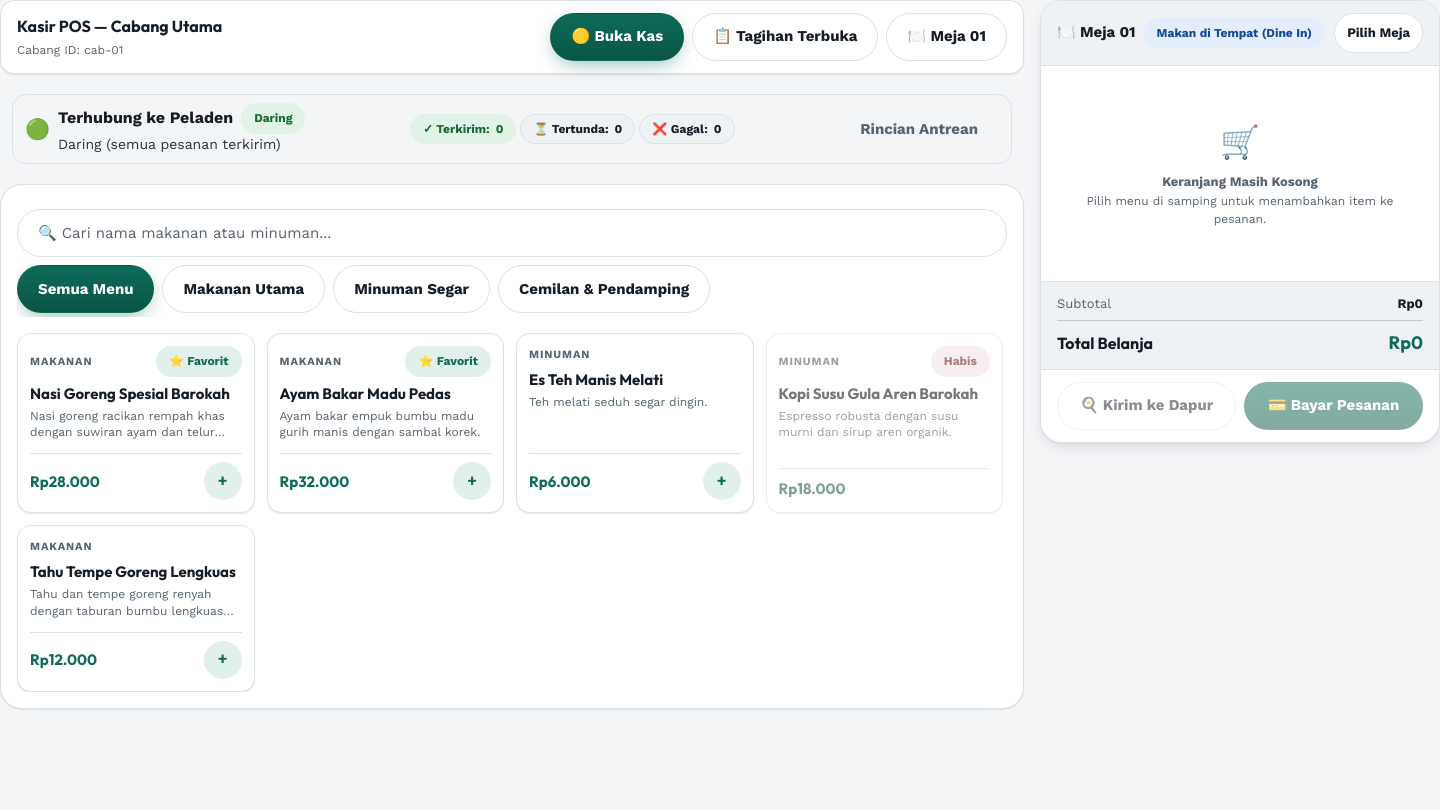
LayarKasir — void item butuh alasan (T5-06) › peringatan PIN atasan muncul bila pesanan sudah masuk dapur
Click the text "Tahu Tempe Goreng Lengkuas" at x=136, y=573, box [30,563,242,582]
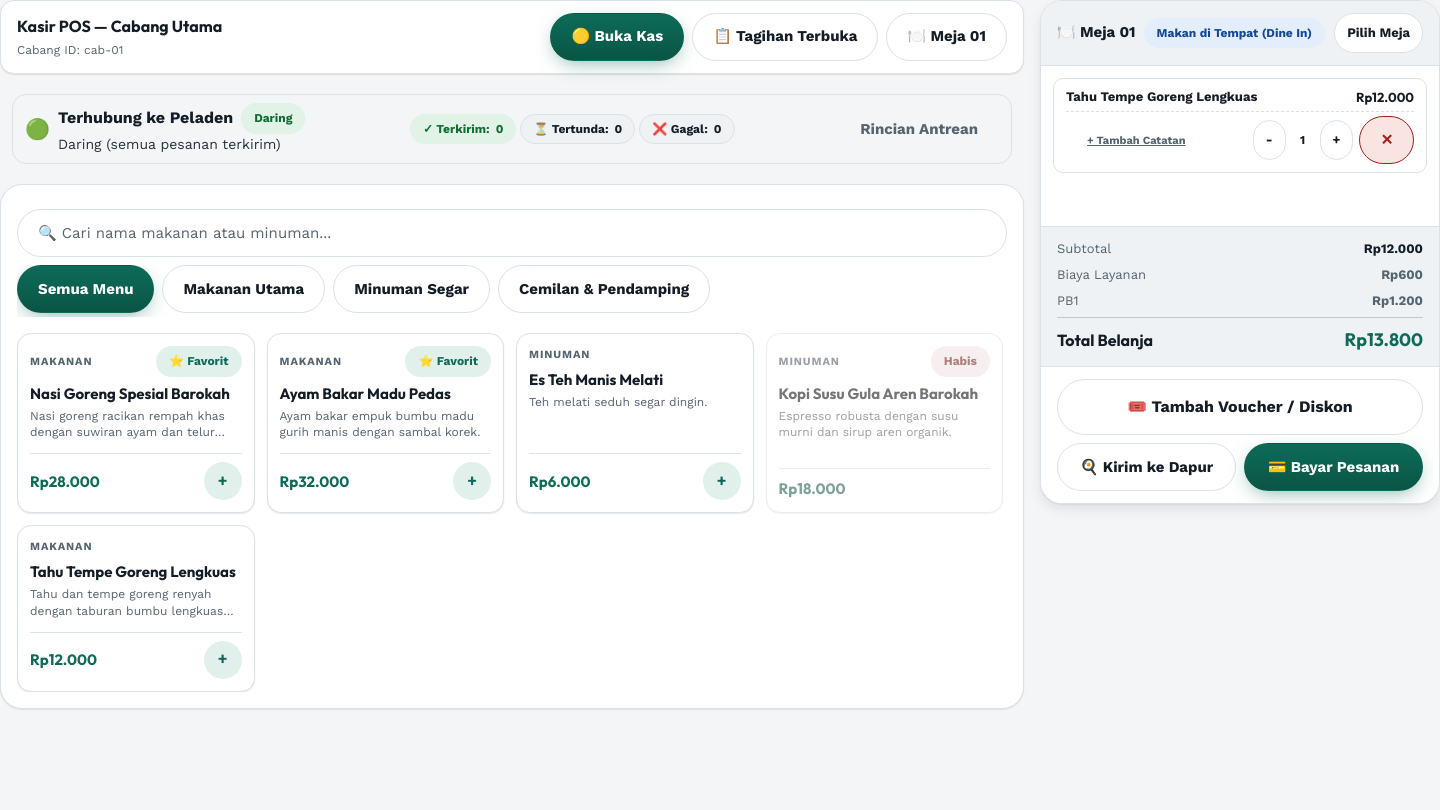
Click the button named "Hapus item" at x=1387, y=140, box [1359,116,1414,164]
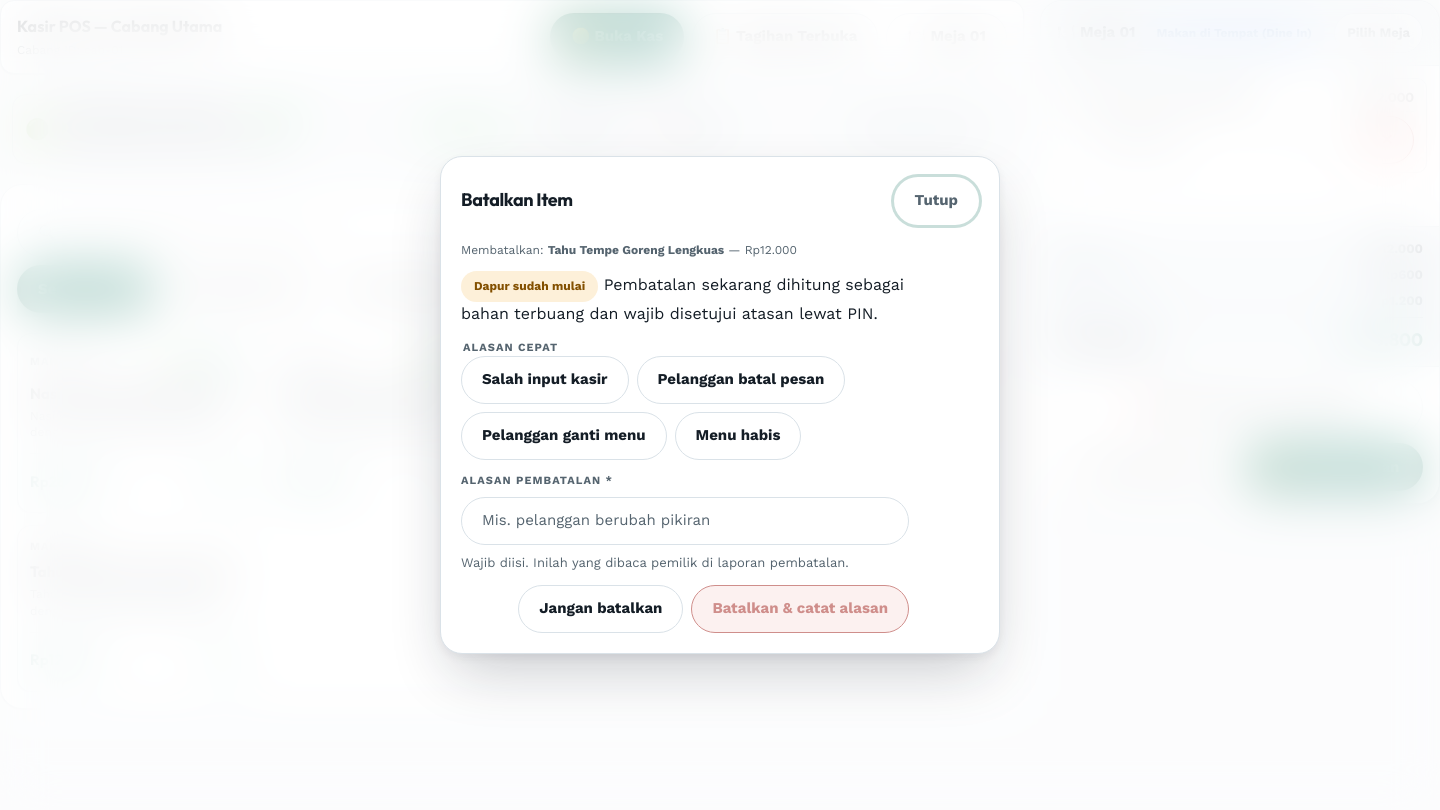
Expected: the element with test id "void-peringatan-dapur" is shown, [461,272,909,327]
